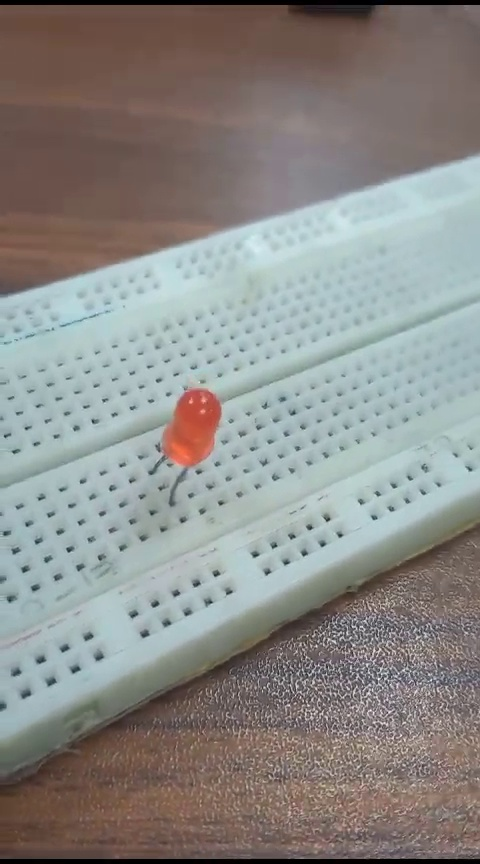LED: (170, 385, 227, 513)
